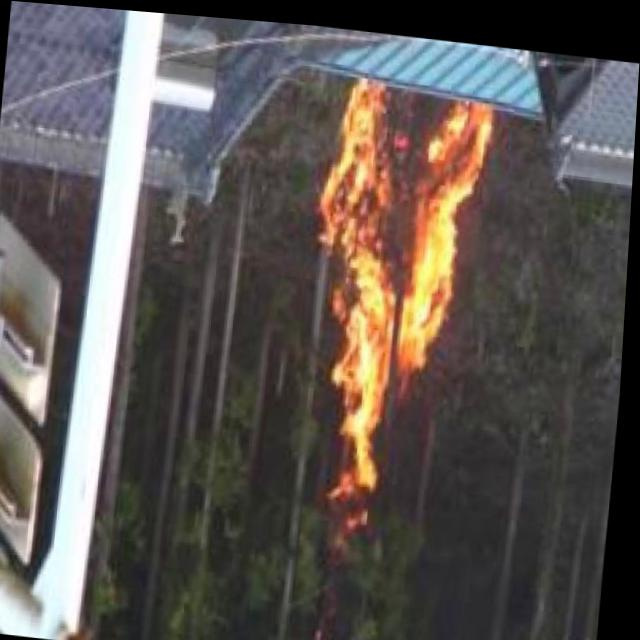Fire: (301, 68, 502, 508)
